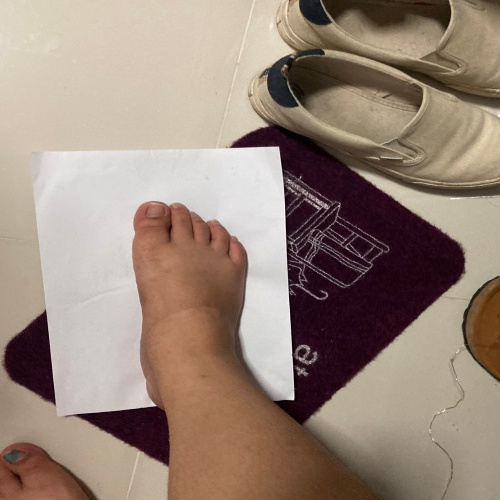Top_Foot: (12, 134, 333, 433)
